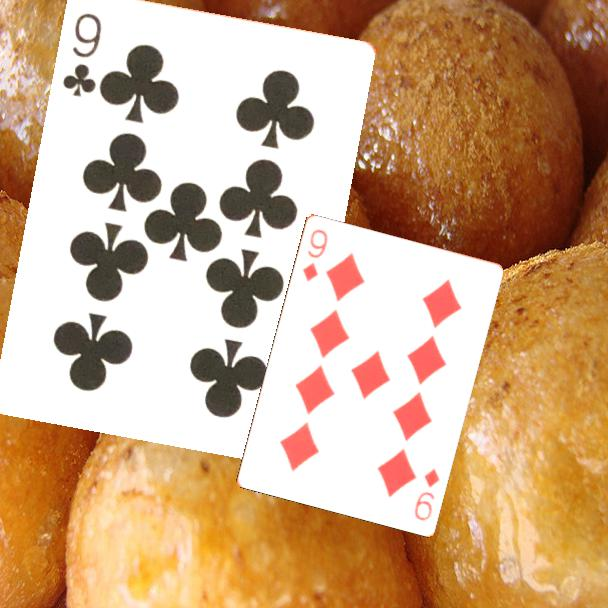c09: (58, 9, 104, 99)
d09: (410, 464, 442, 523), (299, 225, 330, 284)
